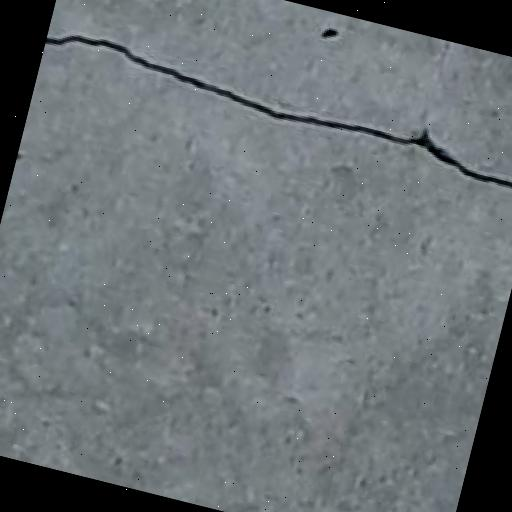spalling: (46, 6, 512, 198)
